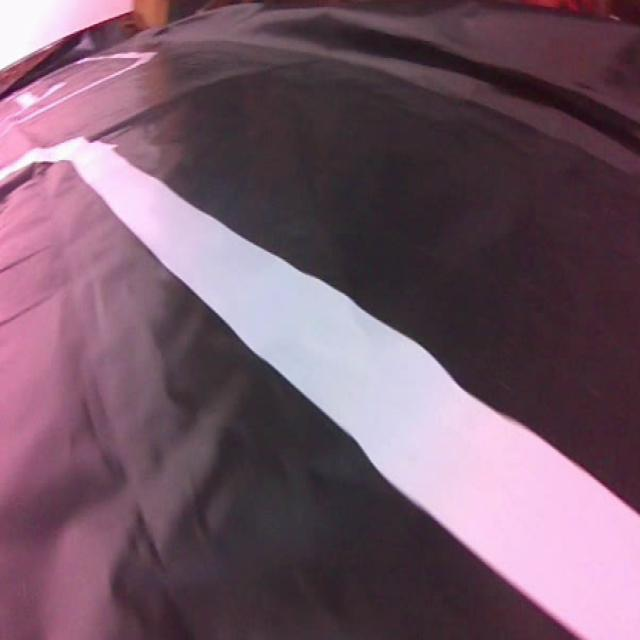LineaCarril: (0, 138, 640, 640)
